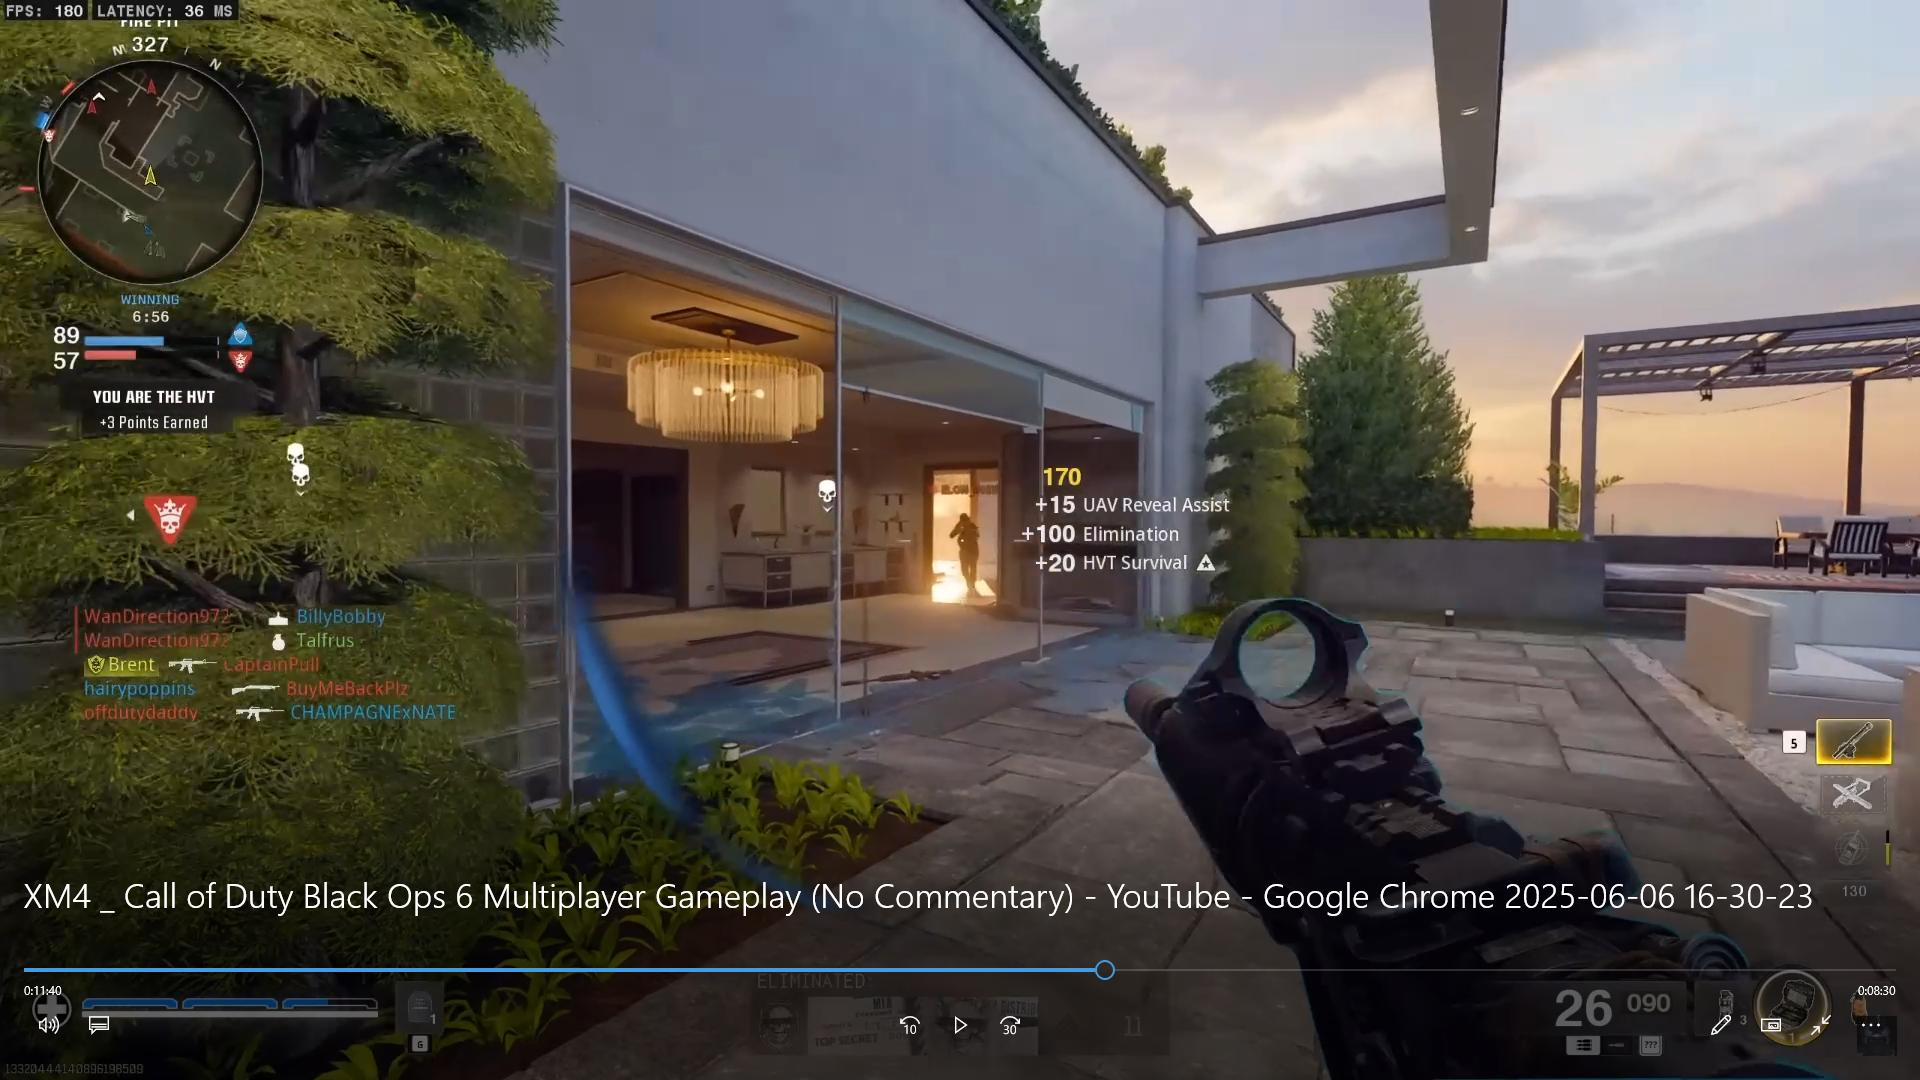Enemy: (943, 508, 1001, 600)
